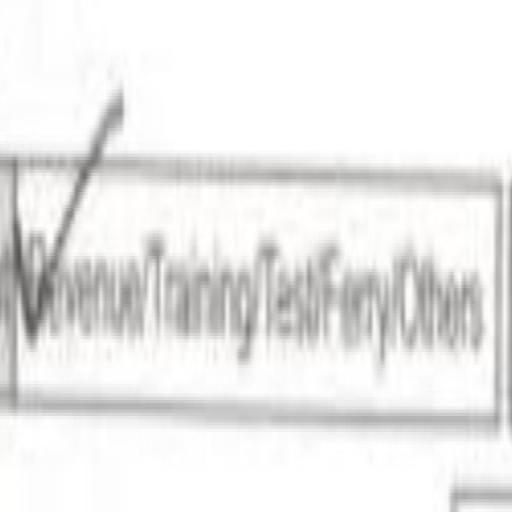check: (19, 113, 147, 493)
